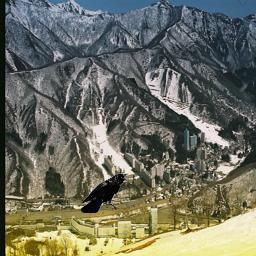Crow: (81, 173, 128, 213)
